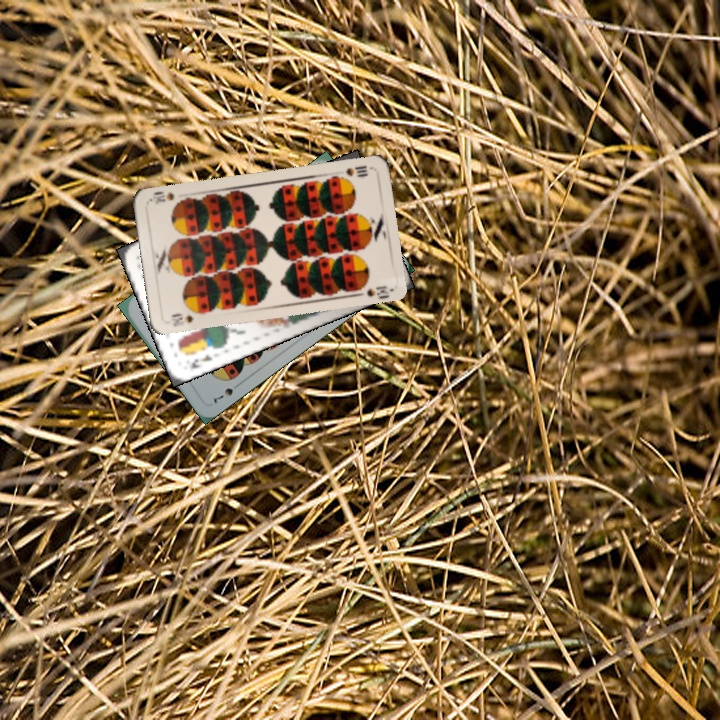EK: (186, 350, 215, 371)
S10: (168, 306, 204, 329), (341, 161, 370, 180)
S7: (208, 379, 243, 407)
